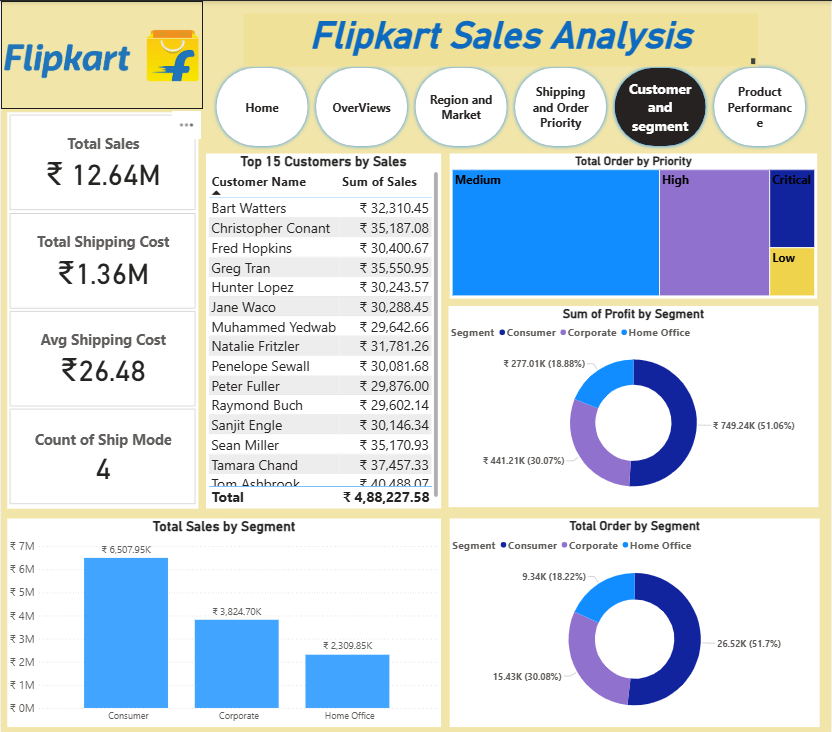

The dashboard page shown, as its layout file describes it:
{"tool":"powerbi","page":{"name":"Customer and segment ","canvas":[1600,1415],"ordinal":4},"visuals":[{"type":"pageNavigator","box":[408,121.7,1157.1,167],"z":0},{"type":"textbox","title":"Flipkart Sales Analysis ","box":[467.6,23.9,992.5,102.6],"z":1000},{"type":"cardVisual","fields":{"Data":["Sum(Orders.Sales)","Sum(Orders.Shipping Cost)1","Avg(Orders.Shipping Cost)","Count(Orders.Ship Mode)"]},"box":[12.1,214.6,368.9,764.4],"z":2000},{"type":"columnChart","fields":{"Category":["Orders.Segment"],"Y":["Sum(Orders.Sales)"]},"box":[12.1,998.3,836.8,402.7],"z":3000},{"type":"image","box":[0,0,388.9,210],"z":4000},{"type":"donutChart","title":"Total Order by Segment ","fields":{"Y":["CountNonNull(Orders.Order ID)"],"Category":["Orders.Segment"]},"box":[865.7,998.3,713.8,402.7],"z":5000},{"type":"tableEx","title":"Top 15 Customers by Sales ","fields":{"Values":["Orders.Customer Name","Sum(Orders.Sales)"]},"box":[395.5,294.2,453.3,684.8],"z":6000},{"type":"donutChart","fields":{"Category":["Orders.Segment"],"Y":["Sum(Orders.Profit)"]},"box":[863.3,588.4,713.8,388.2],"z":7000},{"type":"treemap","title":"Total Order  by  Priority","fields":{"Group":["Orders.Order Priority"],"Values":["Count(Orders.Order ID)"]},"box":[865.7,294.2,709,279.7],"z":8000}]}

Visuals, with their boxes in screenshot pixels (x1, y1, x2, y2), scaled from the page's 1600x1415 canvas onto the 832x732 screenshot:
pageNavigator: <region>212, 63, 814, 149</region>
"Flipkart Sales Analysis " textbox: <region>243, 12, 759, 65</region>
cardVisual - Sum(Orders.Sales) x Sum(Orders.Shipping Cost)1: <region>6, 111, 198, 506</region>
columnChart - Orders.Segment x Sum(Orders.Sales): <region>6, 516, 441, 725</region>
image: <region>0, 0, 202, 109</region>
"Total Order by Segment " donutChart: <region>450, 516, 821, 725</region>
"Top 15 Customers by Sales " tableEx: <region>206, 152, 441, 506</region>
donutChart - Orders.Segment x Sum(Orders.Profit): <region>449, 304, 820, 505</region>
"Total Order  by  Priority" treemap: <region>450, 152, 819, 297</region>
